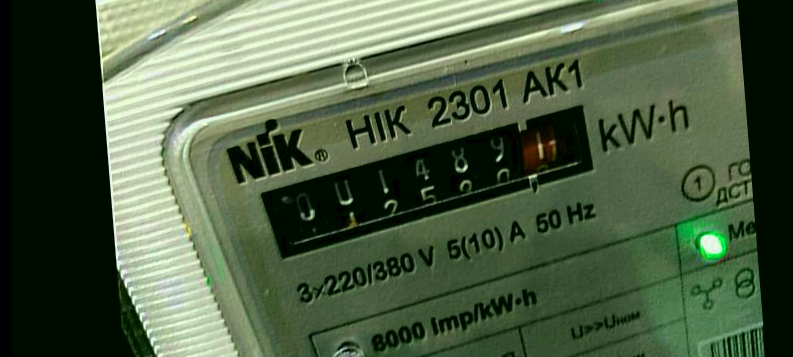0: (329, 171, 357, 209), (292, 188, 319, 225)
1: (529, 124, 550, 163), (372, 164, 395, 196)
4: (409, 151, 434, 184)
8: (449, 140, 472, 177)
9: (487, 131, 509, 164)
screen: (243, 92, 629, 272)
